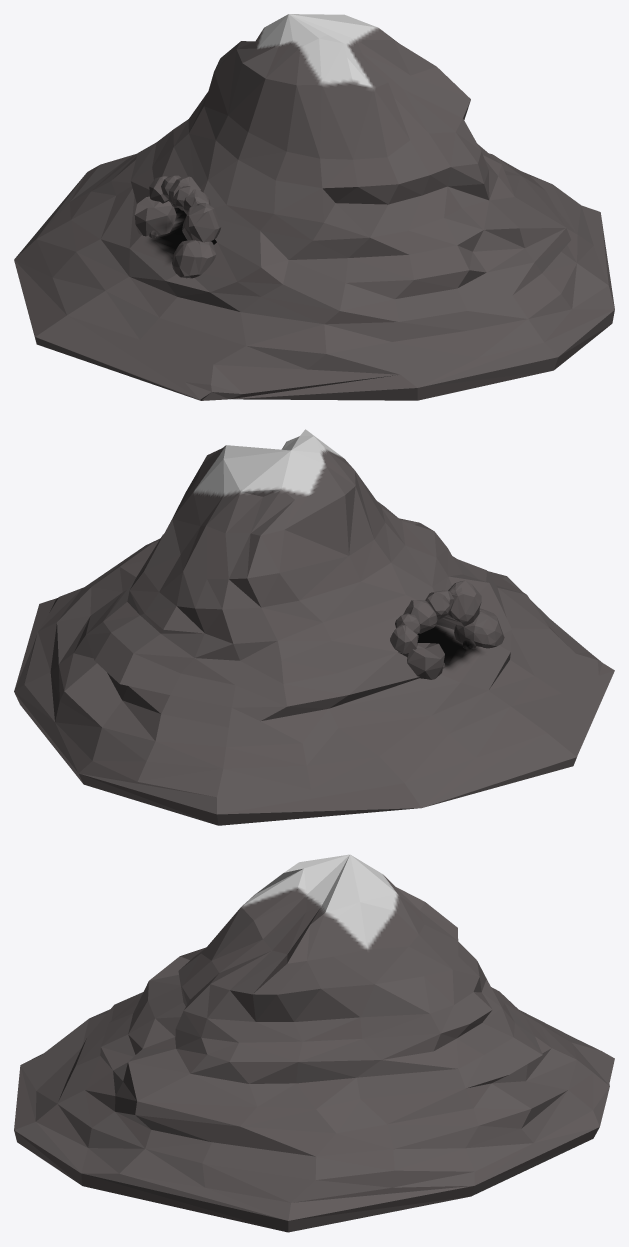
The model's file is Mountain Cave 1.fbx.
3 renders of one model, top to bottom at view 1: azimuth 30°, elevation 25°; view 2: azimuth 150°, elevation 25°; view 3: azimuth 270°, elevation 25°, orthographic. The views are drawn at different scales.
Parts seen in each view (by area): view 1: Mounrain_Cave_1; view 2: Mounrain_Cave_1; view 3: Mounrain_Cave_1.
Part boxes in pixels (box(x1,y1,x2,y2)): Mounrain_Cave_1: box(14, 14, 614, 400); Mounrain_Cave_1: box(14, 429, 614, 825); Mounrain_Cave_1: box(14, 854, 614, 1232).
Size of the model in its own units: 129 by 57.74 by 127.
1 material, 1 textured.
